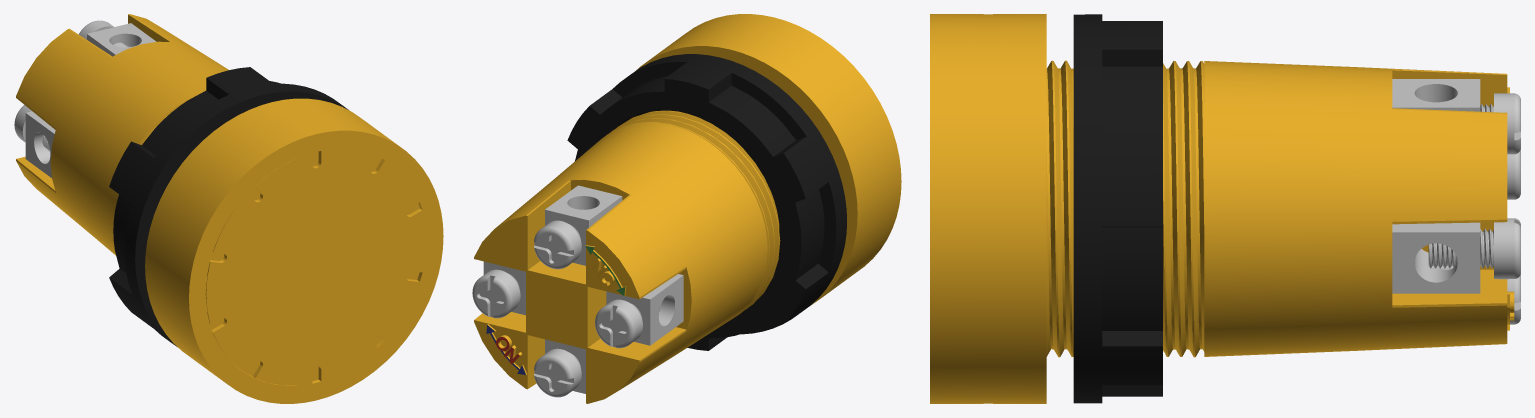
Rendered from 25mm Push Button SwitchYellow.fbx.
3 renders of one model, left to right at view 1: azimuth 30°, elevation 25°; view 2: azimuth 150°, elevation 25°; view 3: azimuth 270°, elevation 25°, orthographic. The views are drawn at different scales.
Visible parts, largest first — view 1: Body1 (×6); view 2: Body1 (×10); view 3: Body1 (×7).
Part boxes in pixels (box(x1,y1,x2,y2)): Body1 (×6): box(14, 14, 443, 403); Body1 (×10): box(472, 14, 901, 403); Body1 (×7): box(930, 14, 1520, 403).
Size of the model in its own units: 28.8 by 28.8 by 43.6.
